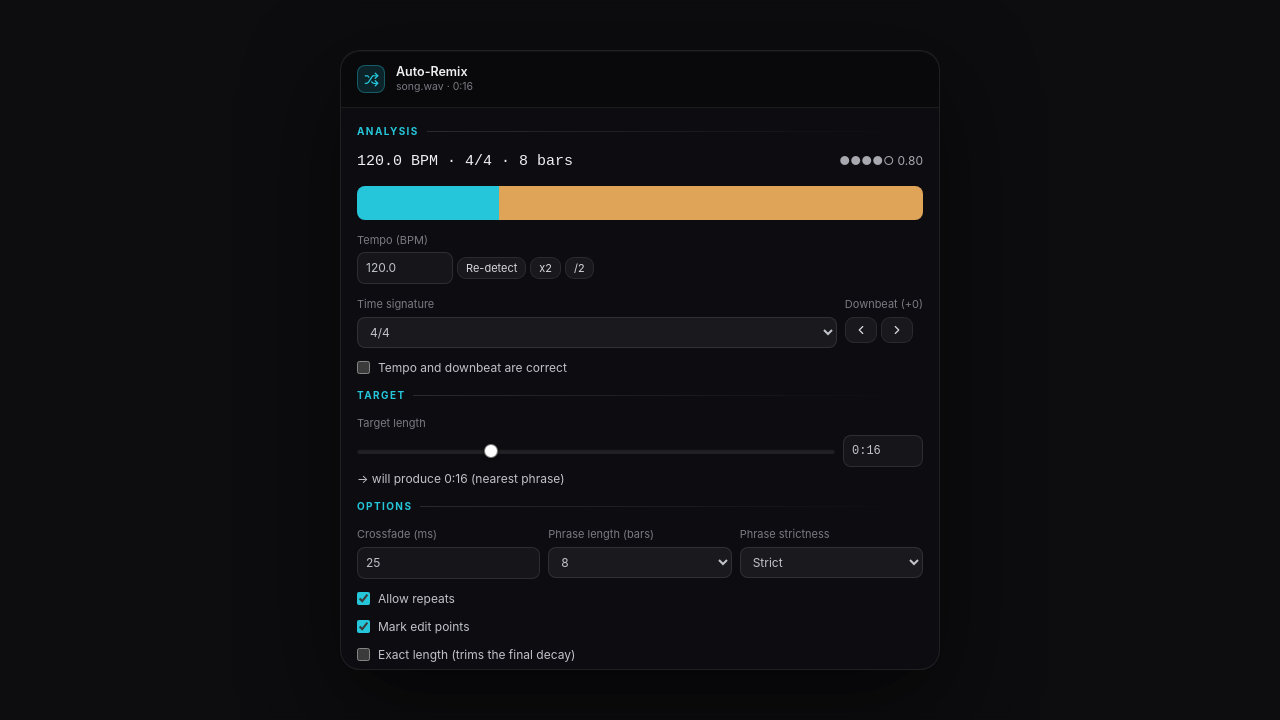
Test: RemixDialog › 11. x2 re-tracks the grid through regridTempo instead of relabelling the BPM
What coordinates should you click on to do the following:
click the button with test id "remix-double"
I would click on:
 (546, 268)
Its box is [530, 257, 561, 280].
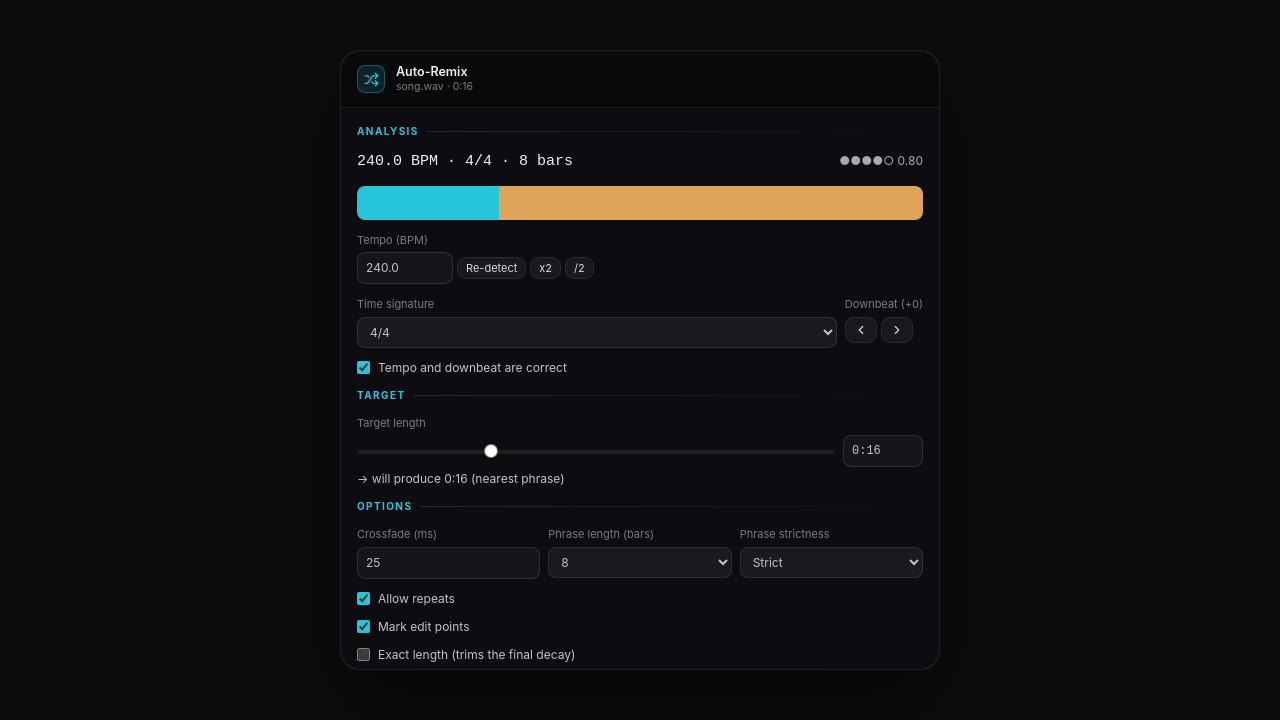
Result: the text with test id "remix-summary" shows "240.0 BPM" at [357, 153, 573, 170]
